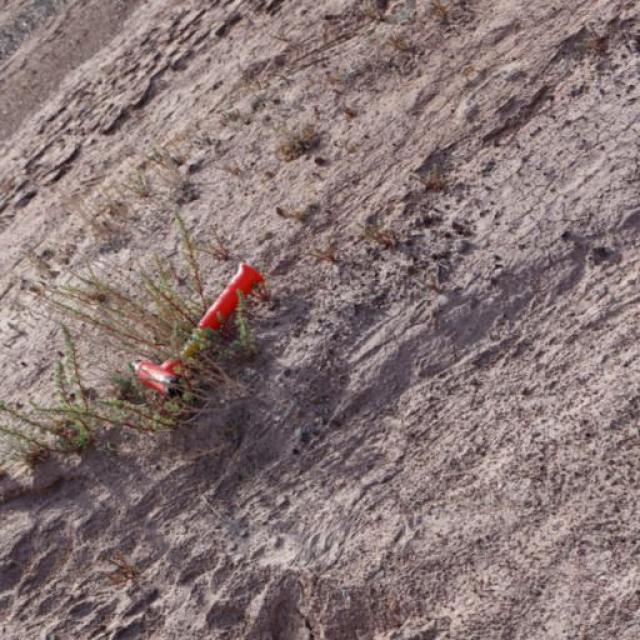mallet: (132, 260, 268, 398)
